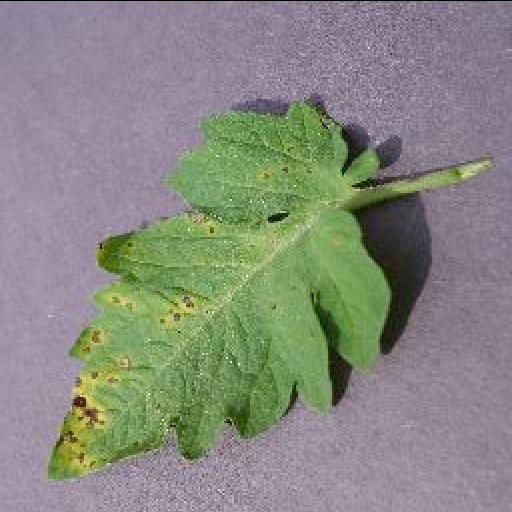disease_tomato: (44, 98, 394, 484)
